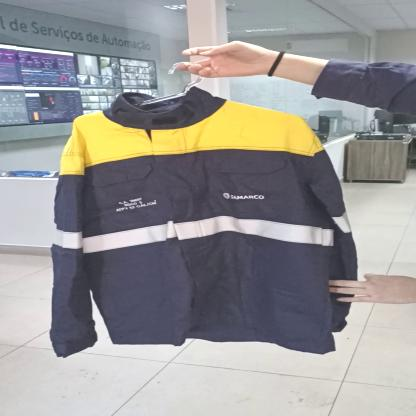C_eletrica: (43, 93, 352, 355)
